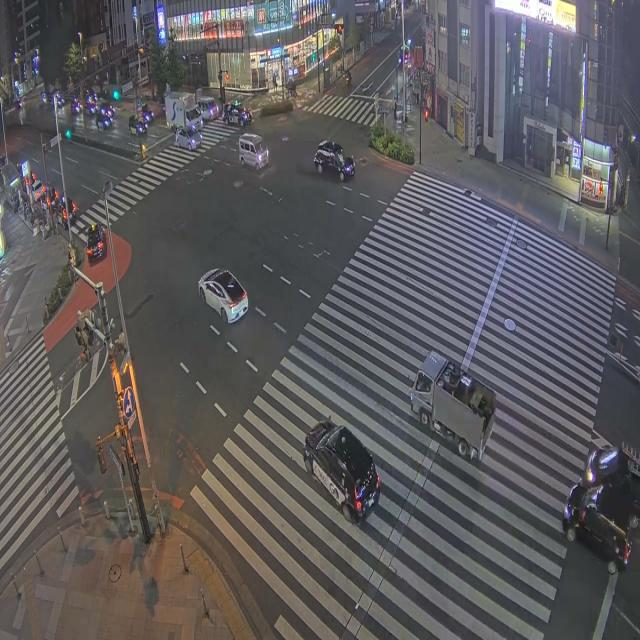car: (303, 419, 379, 523), (562, 485, 633, 574), (581, 444, 639, 527), (198, 269, 248, 323), (314, 141, 355, 181), (86, 224, 106, 262), (223, 103, 252, 127), (175, 128, 202, 151), (59, 195, 77, 223), (52, 202, 68, 229), (129, 115, 147, 135), (98, 101, 116, 119), (84, 92, 98, 114), (140, 103, 154, 125), (32, 180, 46, 202), (96, 112, 112, 129), (52, 92, 65, 110), (71, 96, 82, 113), (404, 46, 411, 67), (41, 91, 51, 103)
truck: (409, 352, 495, 460), (165, 92, 202, 131)
van: (239, 134, 268, 169), (198, 97, 221, 120)
